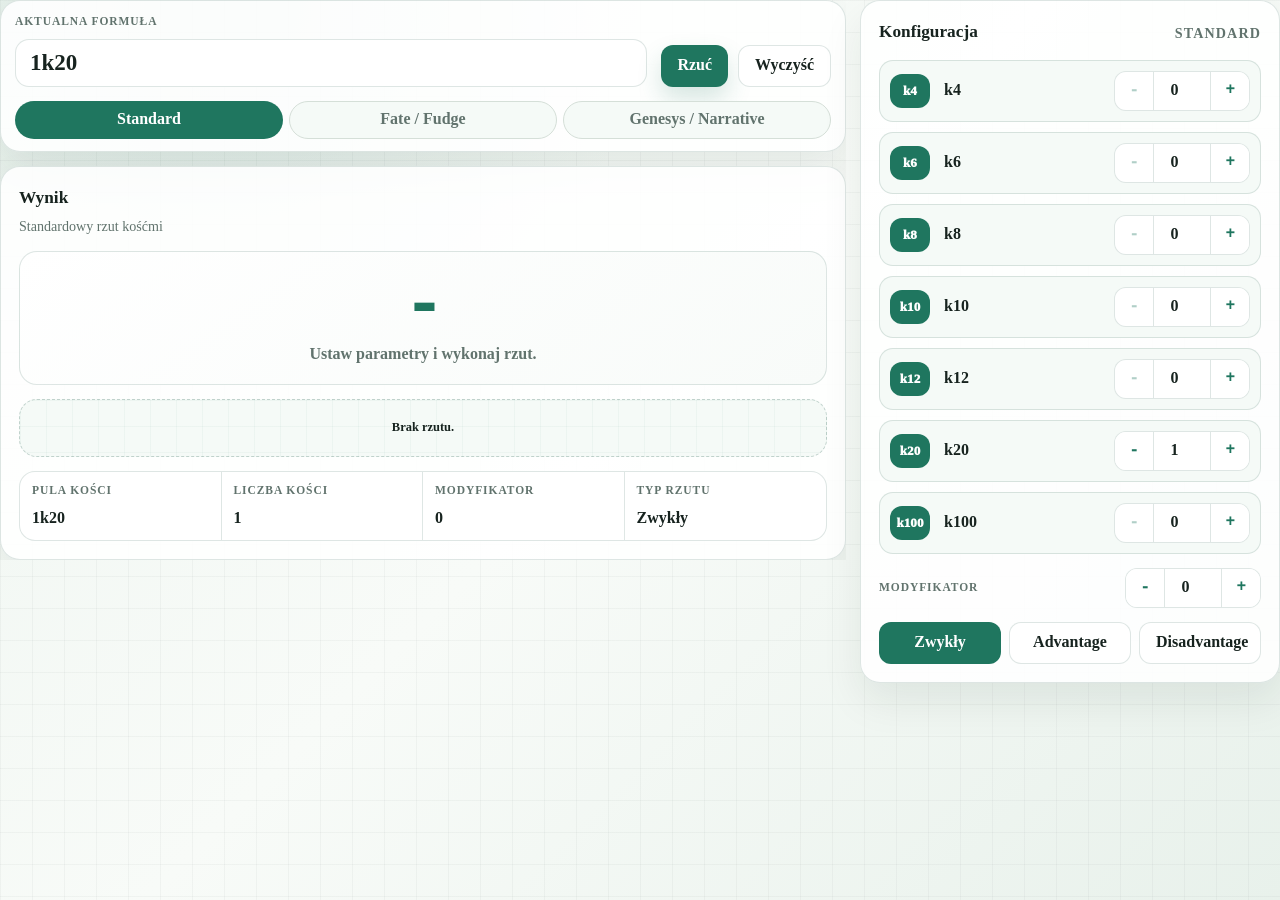
Scenario: DicePage › locks advantage to two d20 and chooses the higher die instead of summing
Click the button "Advantage": (1070, 643) [1009,622,1131,664]
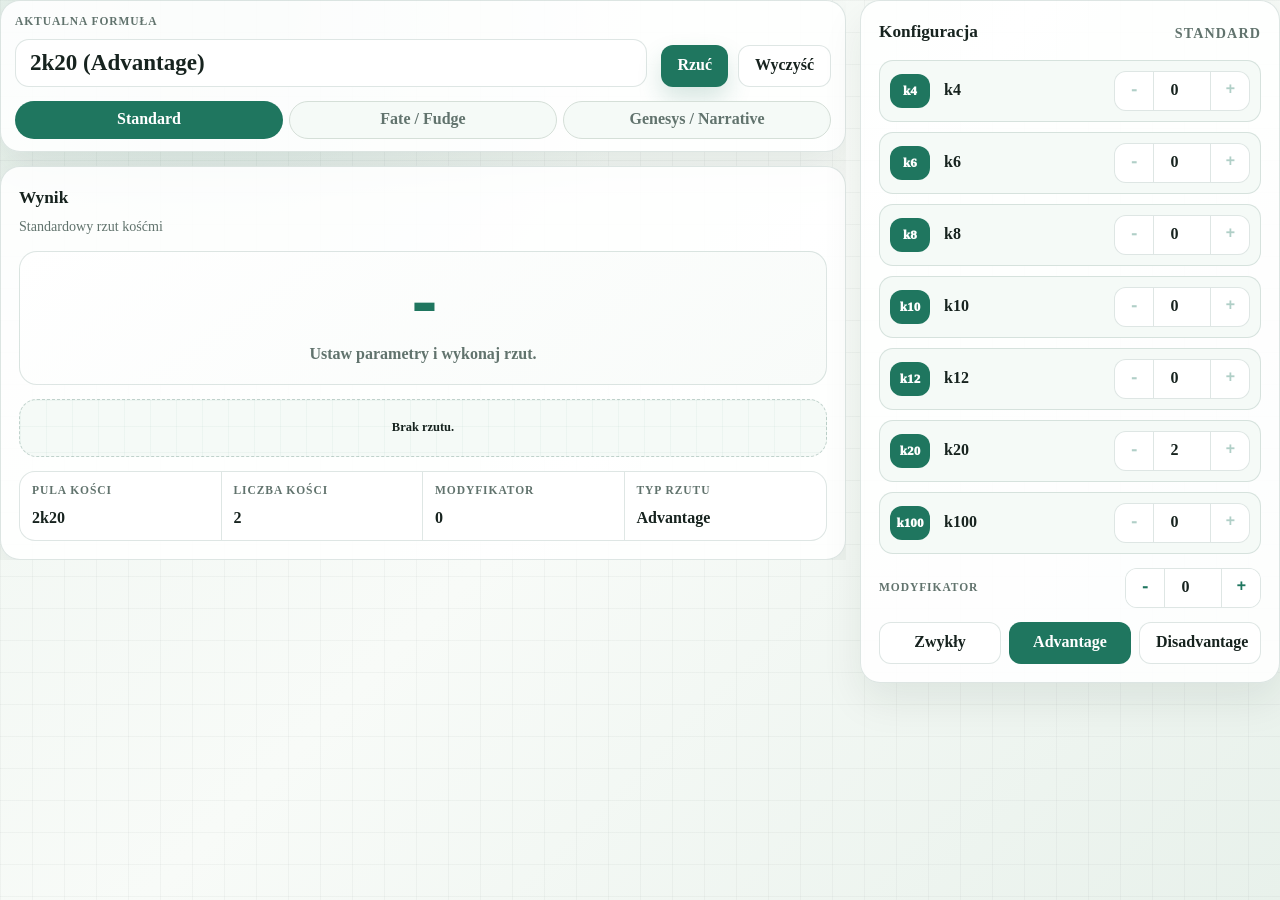
Expected: the 1st number field is disabled, [1153,72,1211,110]
Now the 6th number field holds "2", box [1153,432,1211,470]
Now the 6th number field is disabled, box [1153,432,1211,470]
Click the button "Rzuć": (695, 66) [661,45,728,87]
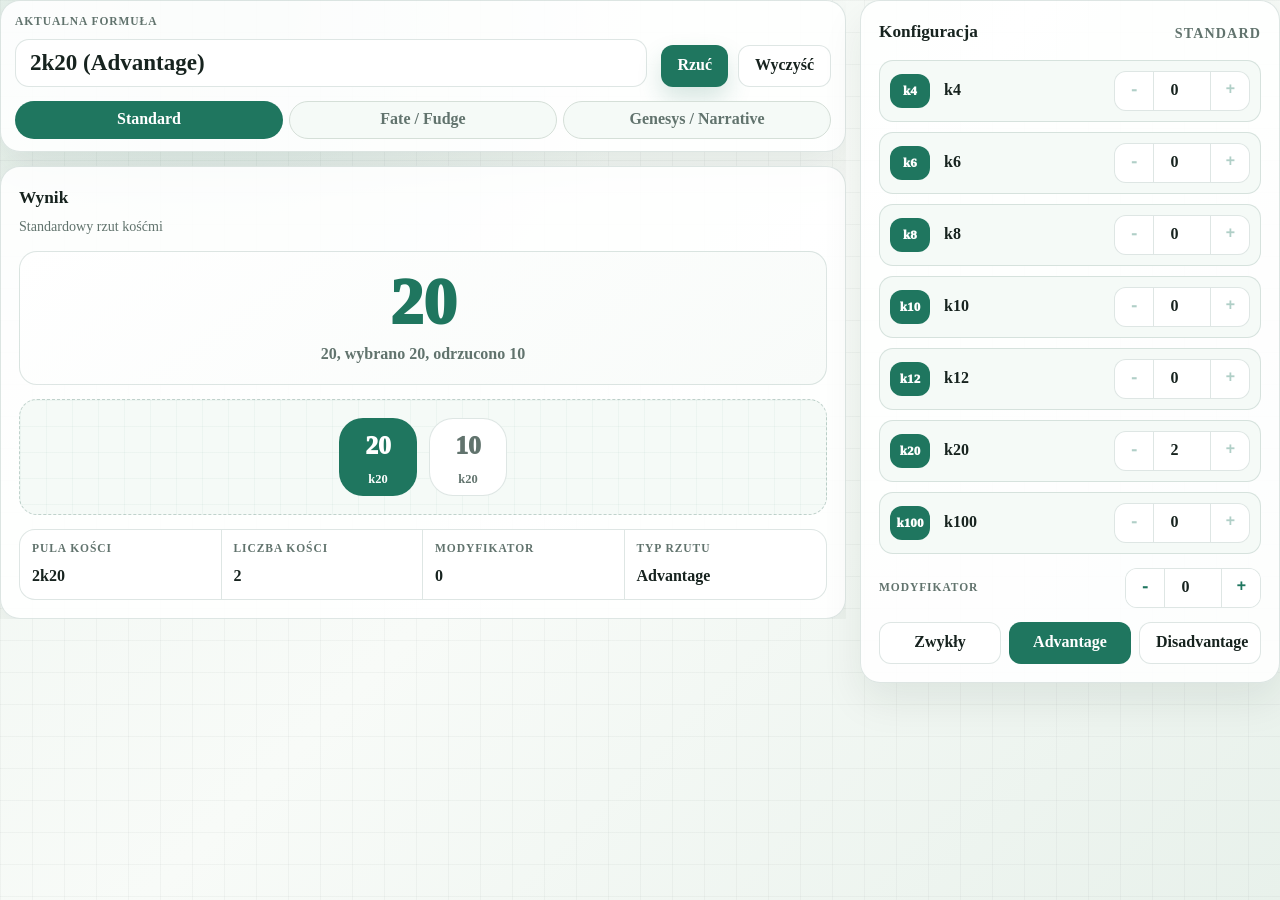
Now the text with class "diceBigNumber" reads "20", box [390,265,456,338]
Now the text with class "diceBreakdown" shows "odrzucono 10", box [321,345,525,362]
